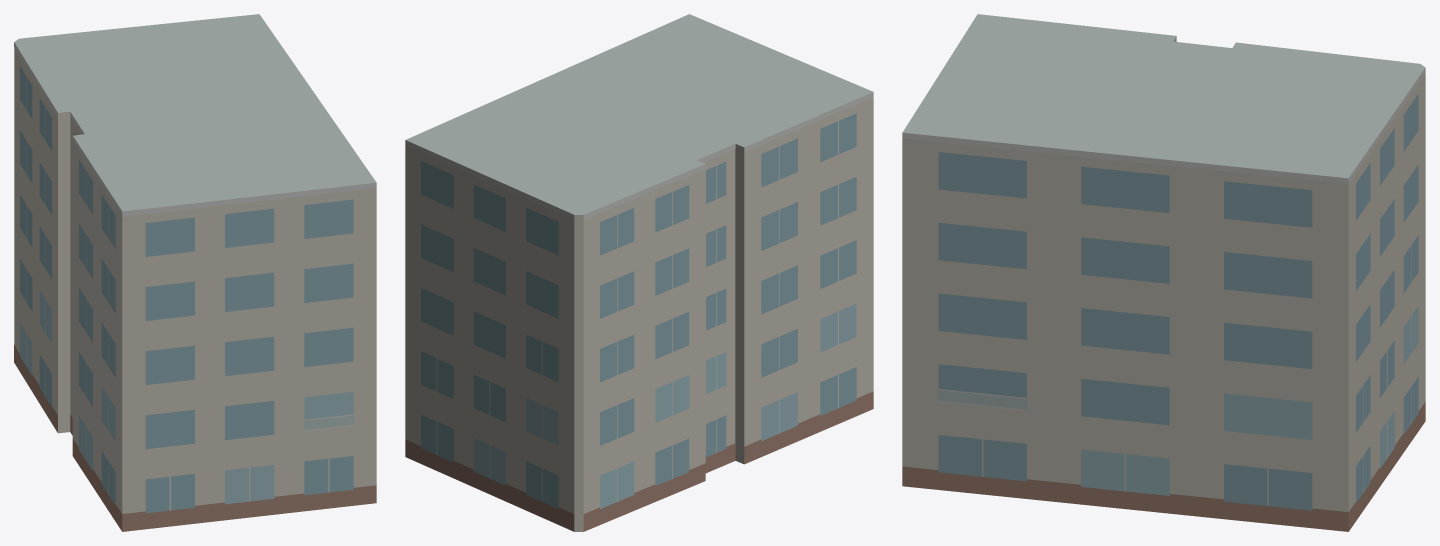
The model's file is survey-upis-32974387.glb.
The picture shows the model from 3 angles, left to right: view 1: azimuth 30°, elevation 25°; view 2: azimuth 150°, elevation 25°; view 3: azimuth 270°, elevation 25°; orthographic projection. The views are drawn at different scales.
Parts seen in each view (by area): view 1: survey-upis-32974387.tmp; view 2: survey-upis-32974387.tmp; view 3: survey-upis-32974387.tmp.
Boxes of the visible parts, x1,y1,x2,y2 form: survey-upis-32974387.tmp: [14, 14, 376, 531]; survey-upis-32974387.tmp: [405, 14, 873, 531]; survey-upis-32974387.tmp: [902, 14, 1425, 531].
Size of the model in its own units: 14.66 by 14.7 by 19.73.
